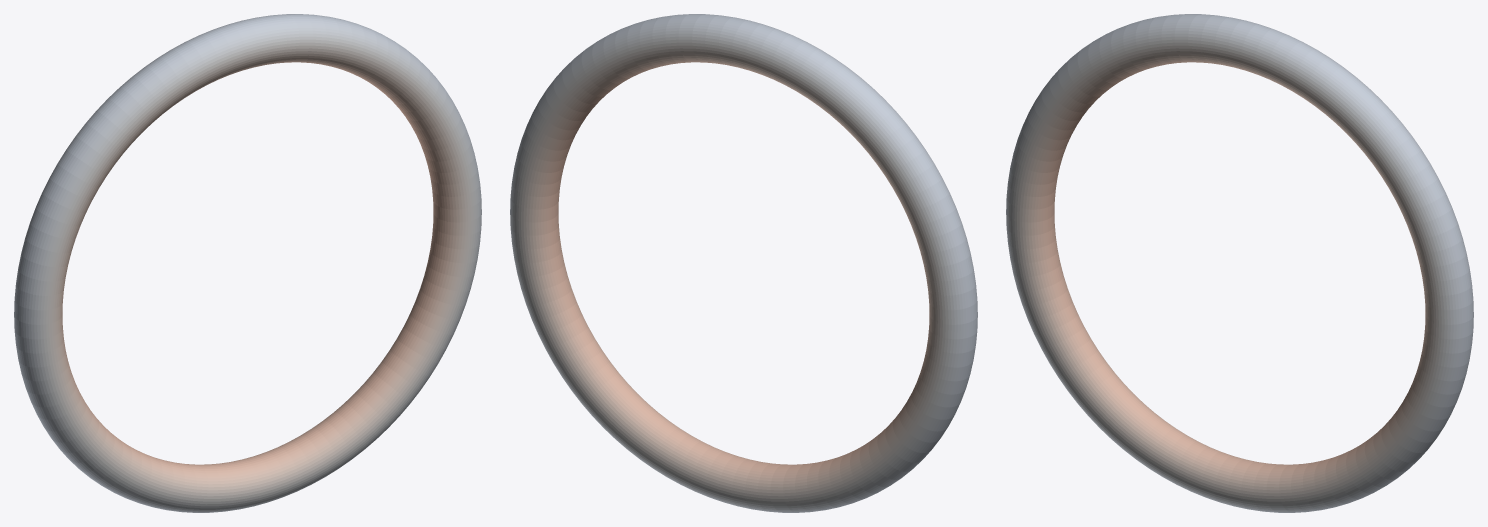
3 renders of one model, left to right at view 1: azimuth 30°, elevation 25°; view 2: azimuth 150°, elevation 25°; view 3: azimuth 330°, elevation 25°, orthographic.
Visible parts, largest first — view 1: world; view 2: world; view 3: world.
Part boxes in pixels (x1,y1,x2,y2): world: [14, 14, 481, 512]; world: [510, 14, 977, 512]; world: [1006, 14, 1473, 512].
Bounding box in the file's own units: 22 × 22 × 2.
